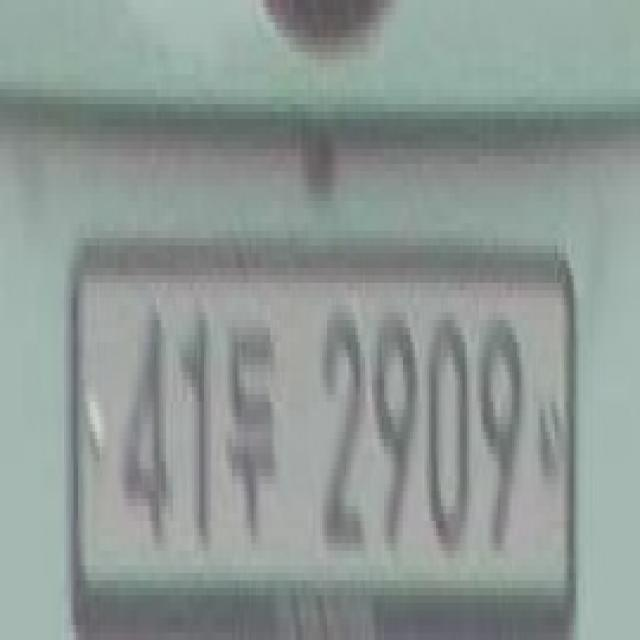0: (424, 313, 470, 558)
1: (180, 305, 213, 558)
2: (315, 305, 363, 558)
4: (116, 305, 168, 558)
9: (370, 298, 417, 543), (479, 305, 524, 558)
du: (228, 312, 275, 521)
license_plate: (69, 238, 576, 610)
